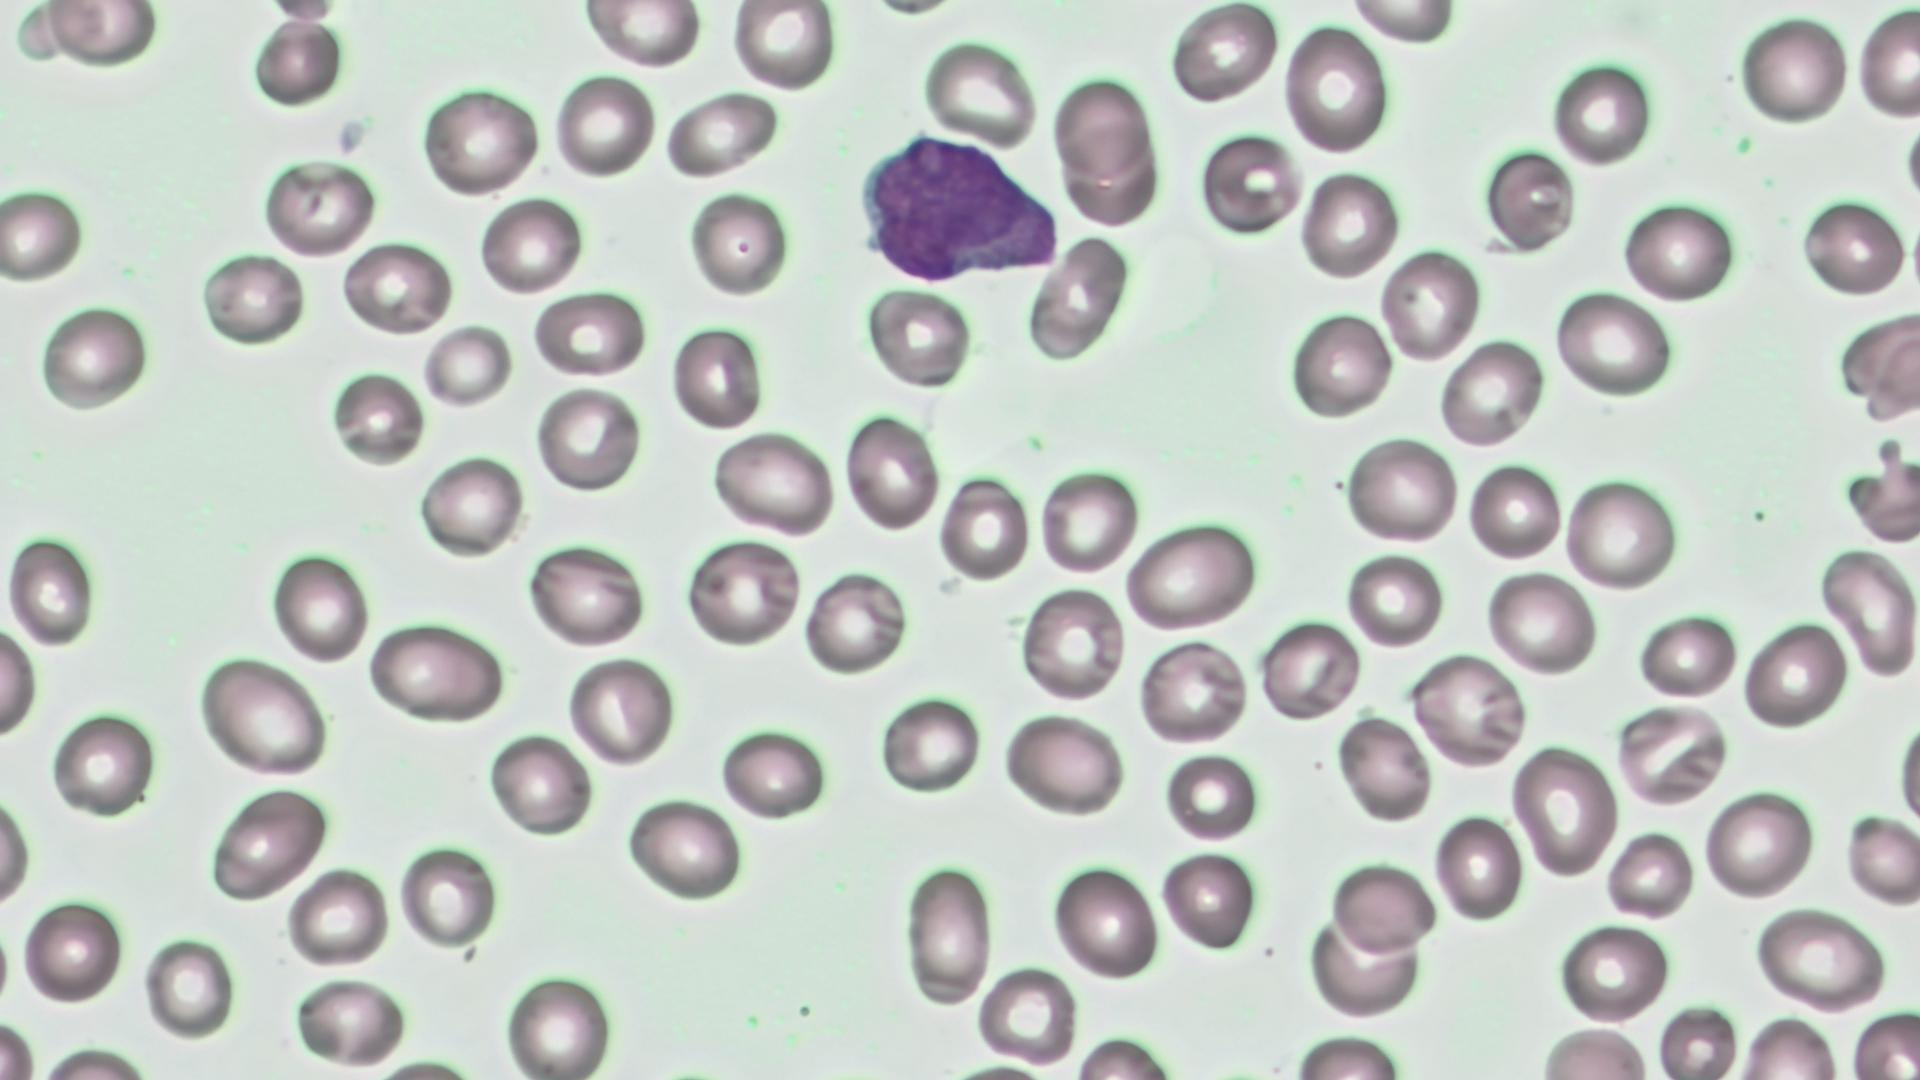RBC: (195, 652, 331, 778), (1121, 514, 1261, 636), (1281, 17, 1392, 160), (1509, 740, 1620, 880), (366, 617, 507, 726), (896, 858, 997, 1010), (1750, 904, 1888, 1015), (418, 79, 542, 201), (1562, 471, 1682, 595), (1816, 538, 1918, 683), (206, 783, 329, 903), (1342, 428, 1462, 550), (708, 426, 836, 540), (998, 708, 1126, 820), (1732, 9, 1850, 129), (1049, 859, 1163, 983), (1303, 906, 1424, 1022), (920, 35, 1042, 150), (1409, 651, 1525, 771), (1024, 233, 1130, 364), (1617, 195, 1740, 306), (501, 965, 620, 1079), (1554, 288, 1674, 401), (1701, 787, 1818, 902), (523, 539, 647, 647), (35, 300, 151, 415), (624, 794, 745, 904), (1378, 241, 1484, 366), (683, 537, 801, 649), (564, 652, 676, 770), (1019, 581, 1126, 704), (841, 407, 943, 536), (1438, 334, 1548, 452), (1545, 54, 1656, 170), (1742, 615, 1850, 734), (1485, 566, 1599, 678), (47, 707, 162, 818), (287, 970, 412, 1072), (1297, 165, 1405, 283), (484, 727, 596, 840), (1133, 636, 1247, 746), (1556, 919, 1672, 1027), (1288, 306, 1394, 424), (266, 547, 371, 665), (1614, 699, 1728, 807), (550, 68, 658, 182), (1036, 462, 1142, 578), (862, 283, 974, 392), (1167, 0, 1280, 108), (261, 152, 377, 257), (533, 385, 643, 495), (975, 958, 1082, 1070), (198, 248, 309, 354), (19, 896, 124, 1008), (1199, 128, 1303, 241), (684, 188, 788, 301), (800, 568, 908, 676), (284, 863, 393, 970), (396, 840, 500, 952), (476, 192, 586, 297), (1156, 846, 1260, 957), (338, 238, 453, 338), (1798, 195, 1906, 301), (245, 7, 350, 116), (717, 724, 831, 824), (4, 528, 98, 649), (417, 452, 524, 557), (661, 87, 780, 181), (669, 320, 767, 434), (1334, 712, 1431, 827), (1431, 809, 1526, 926), (1480, 142, 1575, 258), (1050, 72, 1152, 180), (876, 693, 982, 795), (141, 930, 238, 1041), (1058, 128, 1163, 230), (528, 288, 647, 378), (1463, 459, 1564, 565), (1259, 617, 1360, 722), (1328, 857, 1437, 953), (938, 472, 1029, 584), (1836, 304, 1920, 424), (1840, 422, 1918, 550), (730, 3, 837, 95), (1344, 550, 1446, 646), (328, 366, 423, 467), (1634, 609, 1738, 701), (1160, 750, 1261, 843), (1, 184, 87, 285), (1606, 826, 1696, 922), (579, 0, 704, 69), (40, 2, 163, 70), (1852, 2, 1918, 124), (420, 323, 512, 406), (1845, 812, 1920, 906), (0, 615, 39, 749), (1848, 1006, 1920, 1078), (1343, 0, 1460, 44), (0, 780, 33, 922)
WBC: (850, 127, 1063, 291)
